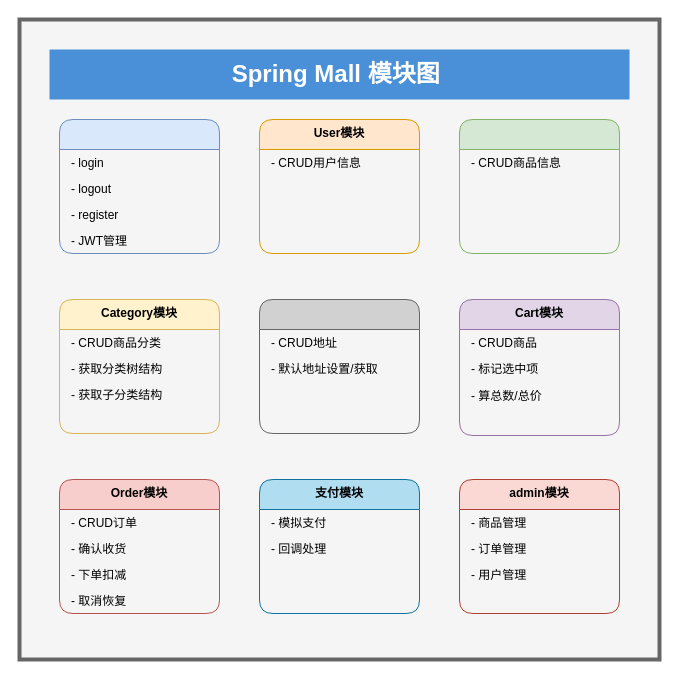
Image size: 678x678. Some labels were removed from this diagram. The shapes that lost their labels are listed below. From the top down, each one's box as (x1, y1, x2, y2) in pixels, then its label:
(58, 118, 220, 254): Auth模块
(458, 118, 620, 254): Product模块
(258, 298, 420, 434): Address模块
